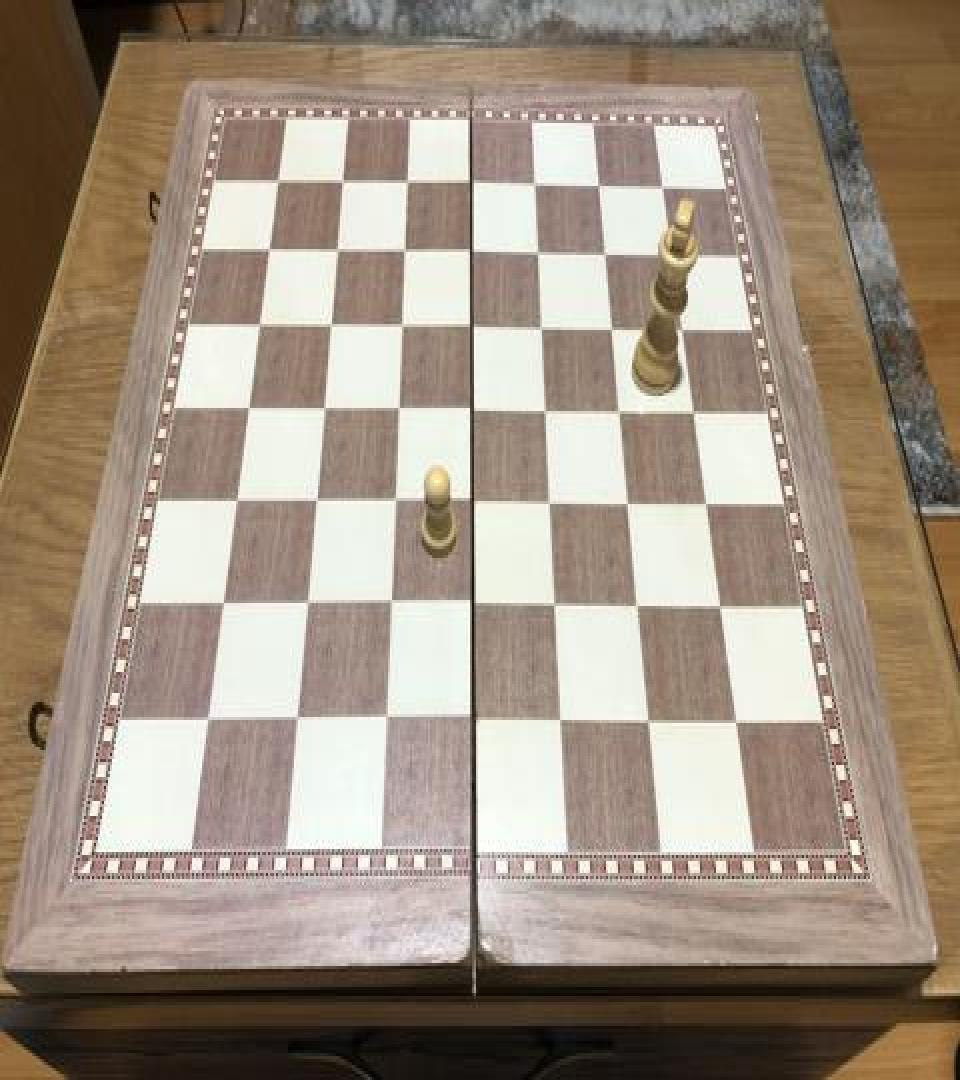xcorner: (294, 586, 318, 623), (212, 586, 236, 623), (371, 703, 395, 740), (283, 703, 307, 740), (196, 703, 220, 740), (649, 166, 673, 202), (585, 166, 609, 202), (522, 166, 546, 202), (459, 166, 483, 202), (395, 165, 419, 201), (332, 165, 356, 201), (269, 165, 293, 201), (658, 236, 682, 272), (591, 234, 615, 270), (525, 234, 549, 270), (459, 234, 483, 270), (392, 234, 416, 270), (326, 234, 350, 270), (259, 232, 283, 268), (668, 310, 692, 346), (598, 309, 622, 345), (528, 309, 552, 345), (459, 309, 483, 345), (389, 309, 413, 345), (319, 309, 343, 345), (249, 308, 273, 344), (679, 393, 703, 429), (605, 393, 629, 429), (532, 393, 556, 429), (459, 392, 483, 428), (385, 392, 409, 428), (312, 392, 336, 428), (238, 392, 262, 428), (691, 484, 715, 520), (614, 484, 638, 520), (536, 484, 560, 520), (459, 484, 483, 520), (381, 484, 405, 520), (303, 484, 327, 520), (226, 483, 250, 519), (705, 588, 729, 624), (623, 588, 647, 624), (541, 588, 565, 624), (458, 588, 482, 624), (376, 588, 400, 624), (721, 705, 745, 741), (633, 705, 657, 741), (546, 705, 570, 741), (458, 705, 482, 741)
